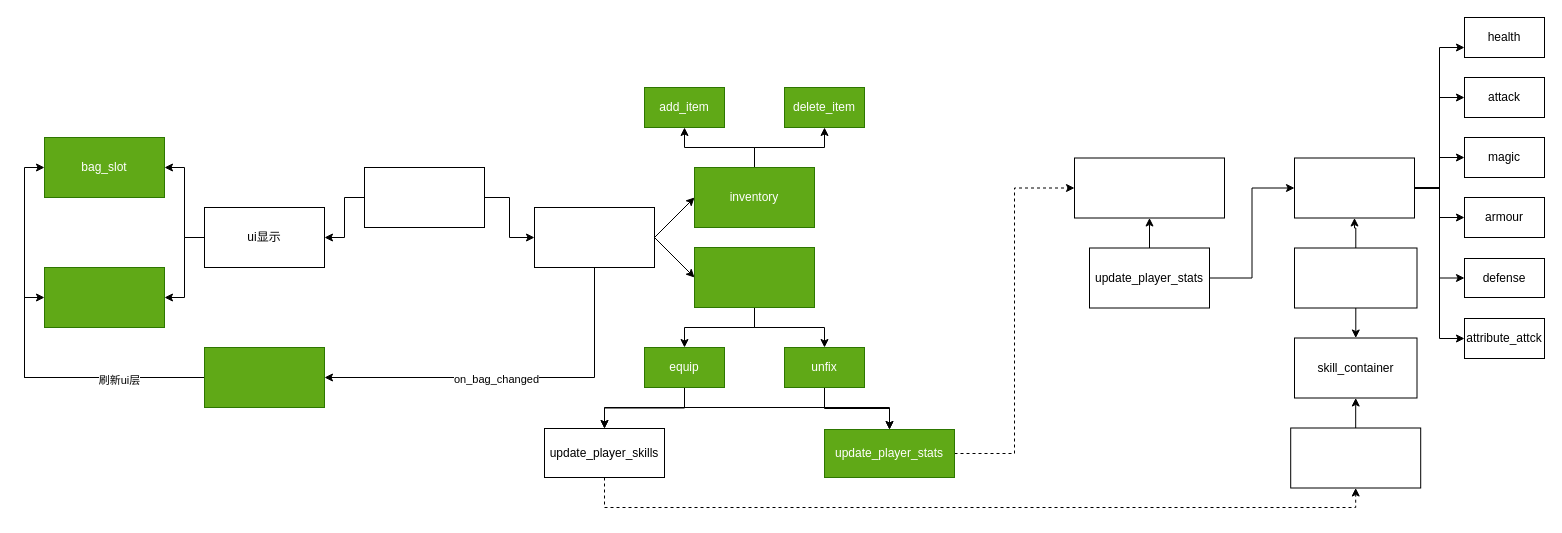
This 1562x533 diagram has some shape labels left out. The centre of each missing label's shape, as x and y in pixels:
equipment_inventory: (754,277)
equipment_slot: (104,297)
on_player_stats_changed: (1149,187)
player: (1355,277)
player_stats: (1354,187)
slots_update: (264,377)
update_skills_container: (1355,457)
数据管理: (594,237)
背包: (424,197)
